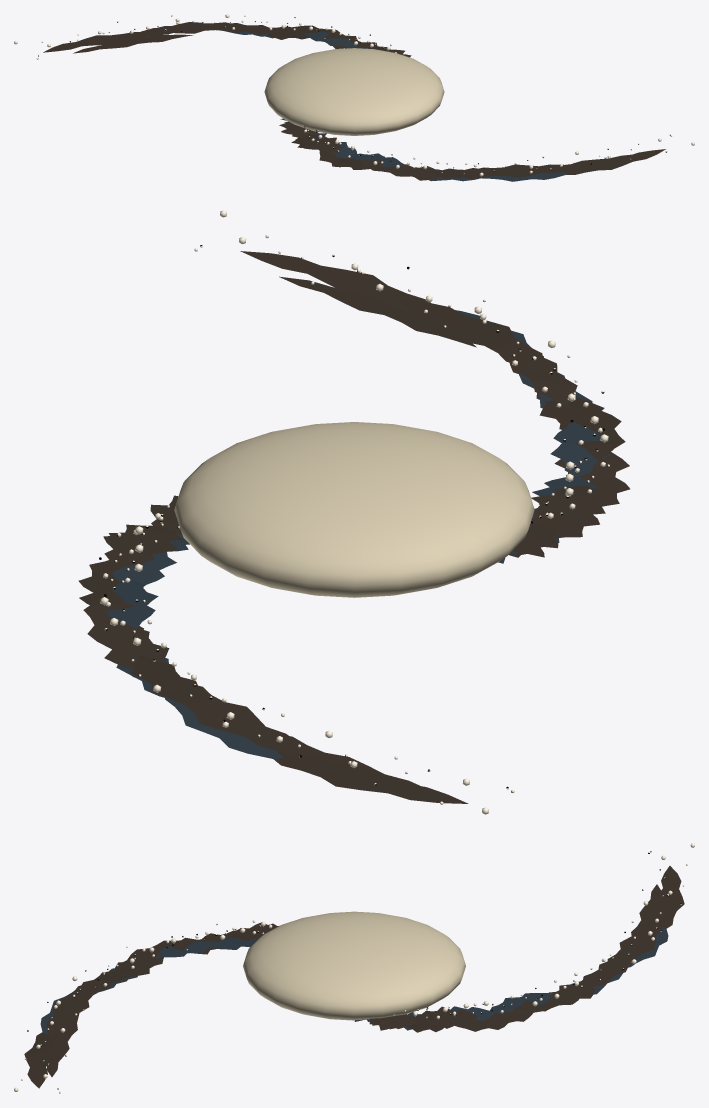
File: galaxy.glb
3 views of the same model, one above another, from view 1: azimuth 30°, elevation 25°; view 2: azimuth 150°, elevation 25°; view 3: azimuth 270°, elevation 25° (orthographic). The views are drawn at different scales.
Parts seen in each view (by area): view 1: galaxy_textured_mesh; view 2: galaxy_textured_mesh; view 3: galaxy_textured_mesh.
Boxes of the visible parts, left/top/right/bottom form: galaxy_textured_mesh: left=14, top=14, right=694, bottom=181; galaxy_textured_mesh: left=78, top=210, right=630, bottom=814; galaxy_textured_mesh: left=14, top=843, right=694, bottom=1093.
Size of the model in its own units: 4.23 by 0.44 by 4.94.
Materials: 1 (1 with a texture image).
